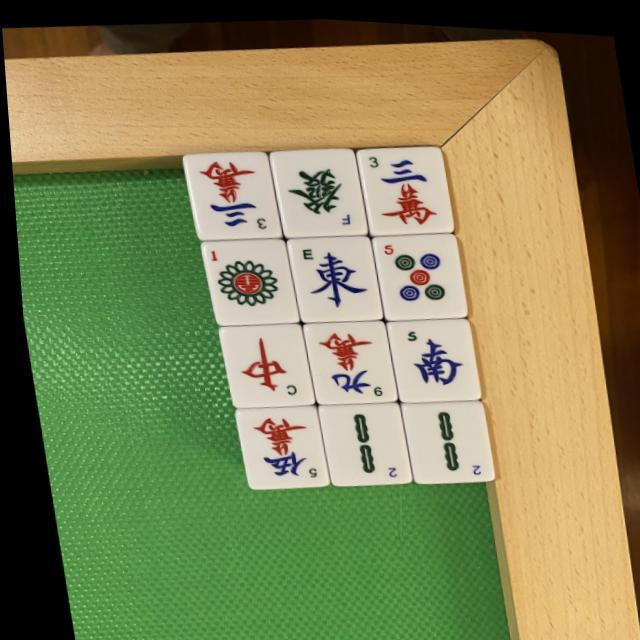hdg: (263, 139, 362, 238)
hdr: (212, 314, 306, 408)
hwe: (278, 224, 376, 321)
hws: (381, 312, 474, 398)
sb2: (308, 391, 401, 482), (396, 390, 487, 480)
sc3: (353, 132, 452, 231), (179, 140, 277, 238)
sc5: (226, 397, 318, 488)
sc9: (296, 311, 391, 404)
sd1: (194, 226, 290, 322)
sd5: (362, 220, 458, 314)
